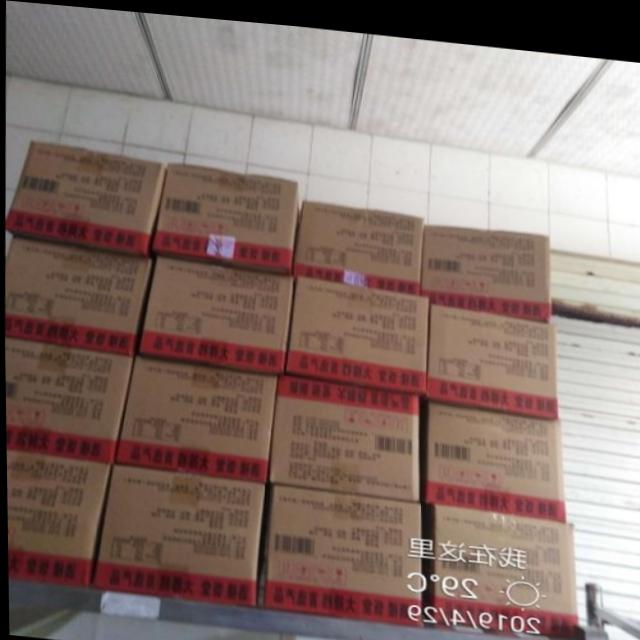box: (89, 461, 265, 605), (261, 477, 422, 618), (114, 351, 276, 478), (268, 367, 418, 493), (432, 495, 575, 627), (4, 139, 167, 252), (139, 253, 293, 371), (4, 235, 153, 352), (425, 392, 565, 513), (283, 271, 429, 387), (151, 159, 303, 270), (4, 334, 130, 463), (426, 295, 558, 408), (5, 448, 110, 587), (420, 216, 551, 310), (291, 193, 423, 286)
